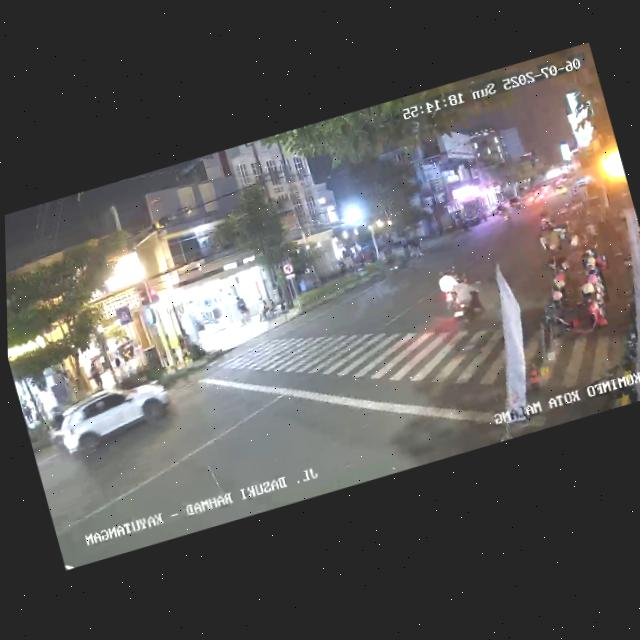car: (44, 373, 178, 468)
motorcycle: (445, 268, 489, 332), (431, 263, 469, 315)
person: (86, 357, 105, 391), (234, 291, 252, 324), (18, 392, 34, 426), (110, 351, 127, 382), (408, 233, 425, 260), (33, 394, 49, 420), (123, 356, 134, 375)
